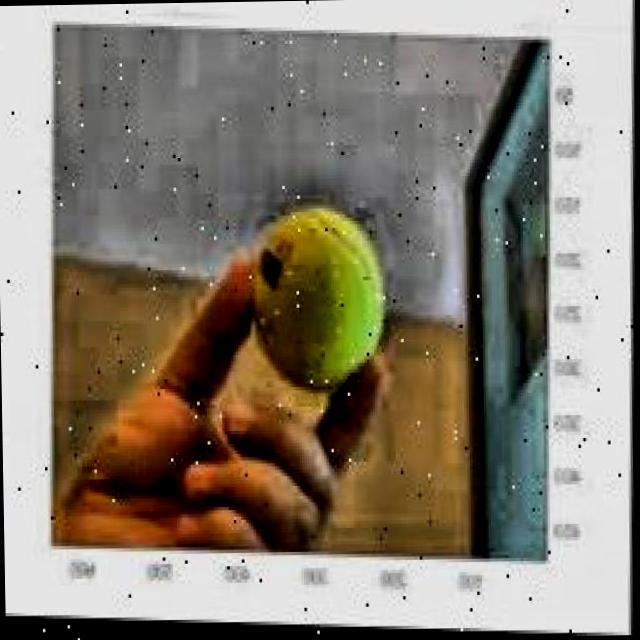Tennis Ball: (248, 204, 390, 417)
